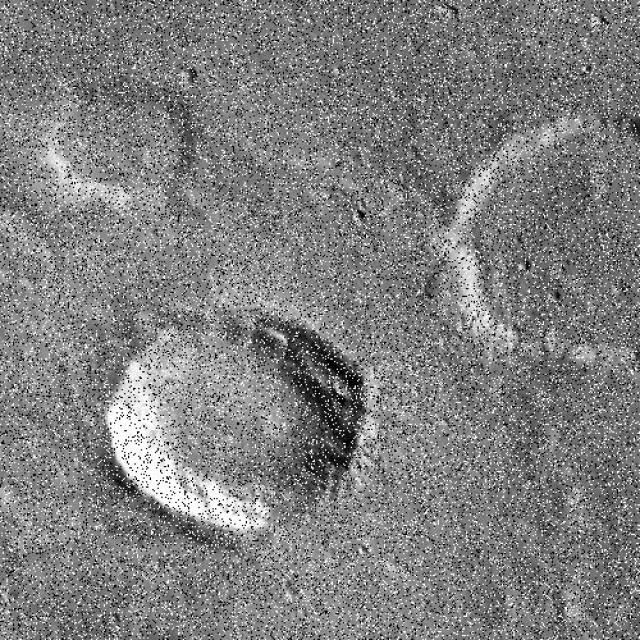crater: (315, 0, 640, 340), (75, 282, 372, 558), (417, 106, 640, 396), (42, 0, 365, 109), (534, 158, 640, 354), (0, 0, 164, 116), (481, 0, 640, 74)
